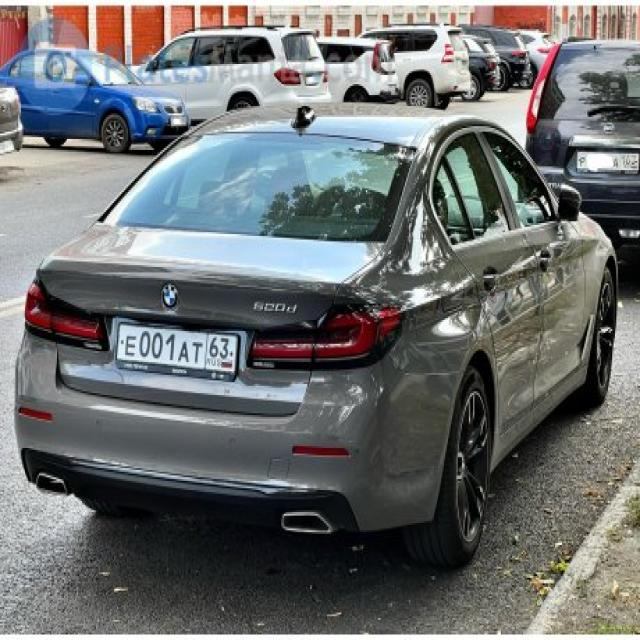license: (115, 310, 243, 388)
